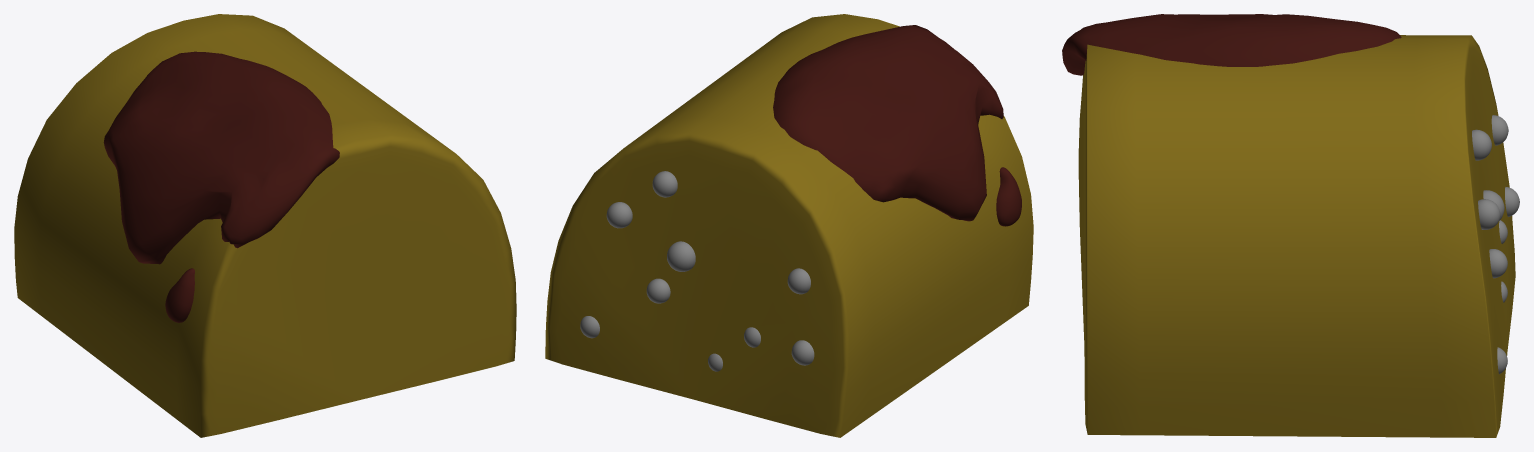
File: cake02.obj
3 views of the same model, side by side, from view 1: azimuth 30°, elevation 25°; view 2: azimuth 150°, elevation 25°; view 3: azimuth 270°, elevation 25° (orthographic). The views are drawn at different scales.
Visible parts, largest first — view 1: group5 pCylinder14, group5 polySurface4, pSphere57 group5; view 2: group5 pCylinder14, group5 polySurface4, pSphere57 group5, group5 pSphere62, group5 pSphere60, group5 pSphere61, group5 pSphere63, group5 pSphere58, group5 pSphere59; view 3: group5 pCylinder14, group5 polySurface4, group5 pSphere60, group5 pSphere61.
Boxes of the visible parts, left/top/right/bottom form: group5 pCylinder14: left=14, top=14, right=516, bottom=437; group5 polySurface4: left=103, top=51, right=339, bottom=264; pSphere57 group5: left=165, top=268, right=194, bottom=322; group5 pCylinder14: left=545, top=14, right=1033, bottom=437; group5 polySurface4: left=773, top=25, right=1003, bottom=221; pSphere57 group5: left=996, top=167, right=1021, bottom=226; group5 pSphere62: left=667, top=241, right=695, bottom=271; group5 pSphere60: left=606, top=202, right=632, bottom=228; group5 pSphere61: left=652, top=171, right=677, bottom=197; group5 pSphere63: left=646, top=278, right=670, bottom=303; group5 pSphere58: left=787, top=268, right=810, bottom=294; group5 pSphere59: left=791, top=340, right=814, bottom=365; group5 pCylinder14: left=1078, top=35, right=1515, bottom=437; group5 polySurface4: left=1062, top=14, right=1401, bottom=75; group5 pSphere60: left=1478, top=199, right=1500, bottom=229; group5 pSphere61: left=1472, top=129, right=1491, bottom=160.
Size of the model in its own units: 2.14 by 1.7 by 2.27.
